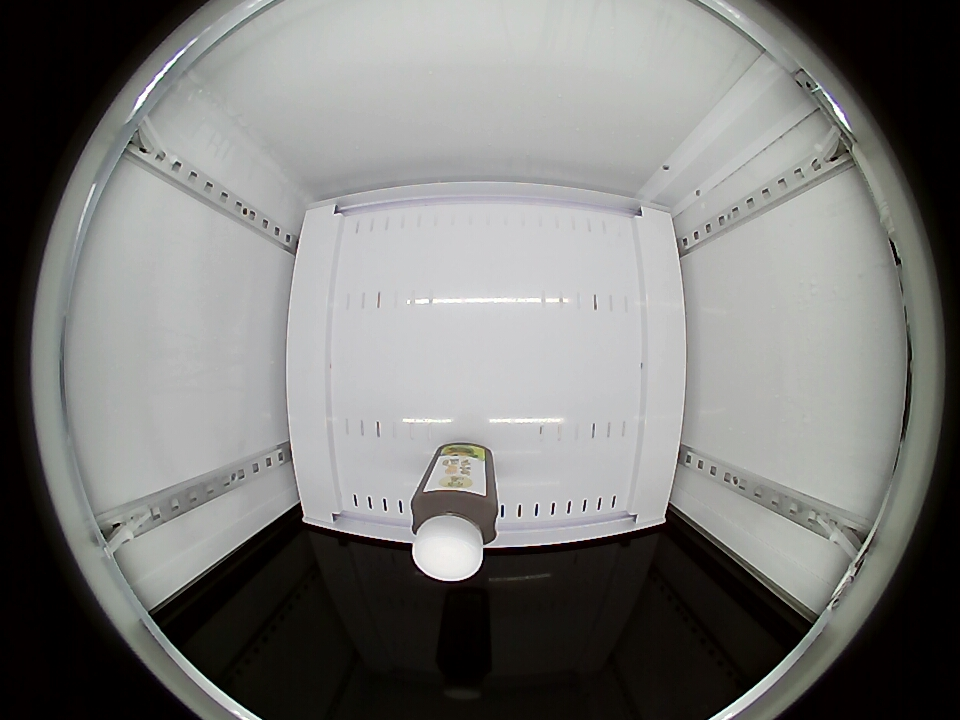youyanggudong: (409, 484, 499, 582)
